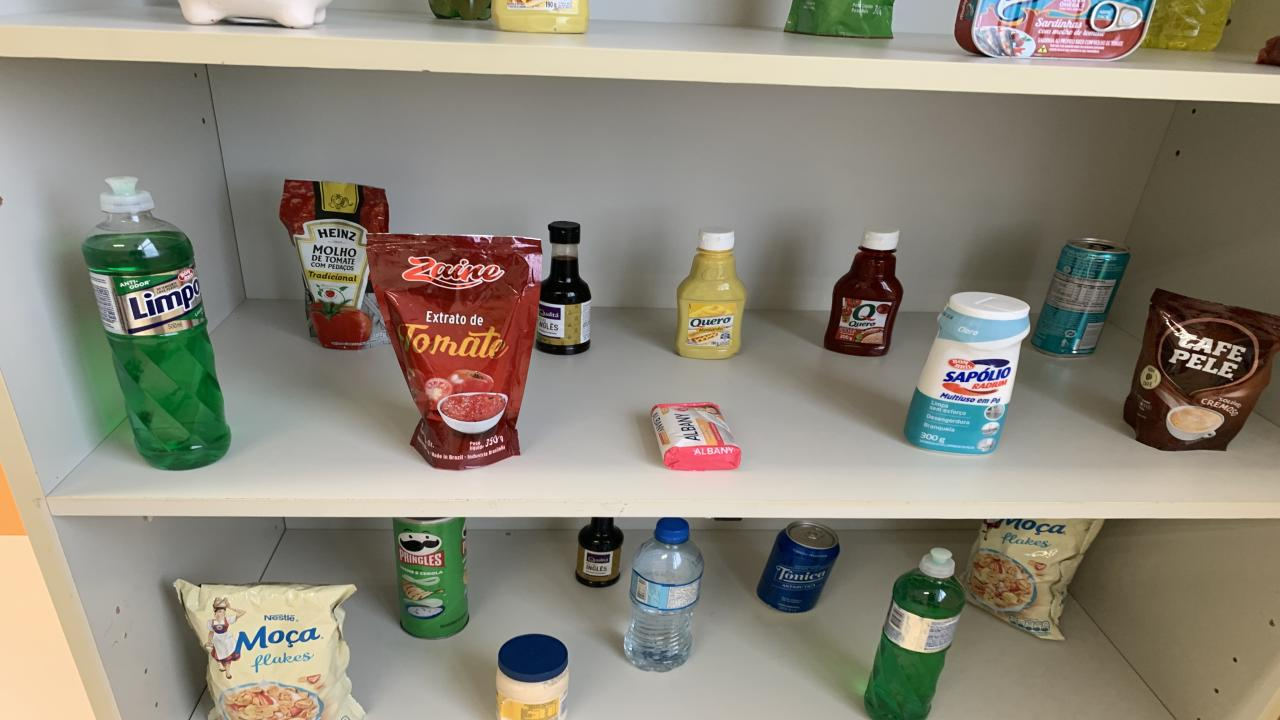Cleaner-Cleanup_Items: (905, 292, 1030, 454)
Coffee-Pantry_Items: (1122, 291, 1280, 450)
Detergent-Cleanup_Items: (82, 176, 230, 469), (865, 548, 965, 720), (1142, 0, 1232, 51)
English_Sauce-Pantry_Items: (535, 221, 590, 354), (575, 518, 622, 587)
Flakes-Snacks: (175, 579, 365, 718), (960, 518, 1102, 641)
Guarana-Drinks: (428, 0, 492, 21)
Ketchup-Pantry_Items: (825, 227, 902, 356)
Mayonnaise-Pantry_Items: (495, 634, 570, 720)
Mustard-Pantry_Items: (675, 227, 745, 358), (490, 0, 590, 34)
Pig_Safe-Miscellaneous: (178, 0, 332, 28)
Pringles-Snacks: (392, 518, 468, 639)
Soap-Cleanup_Items: (650, 403, 740, 471)
Tea-Drinks: (1030, 238, 1130, 356)
Tomato_Sauce-Pantry_Items: (368, 234, 542, 469), (280, 180, 390, 351)
Tonic-Drinks: (758, 521, 840, 613)
Tuna_Can-Pantry_Items: (955, 0, 1155, 60)
Water_Bottle-Drinks: (625, 518, 705, 671)
